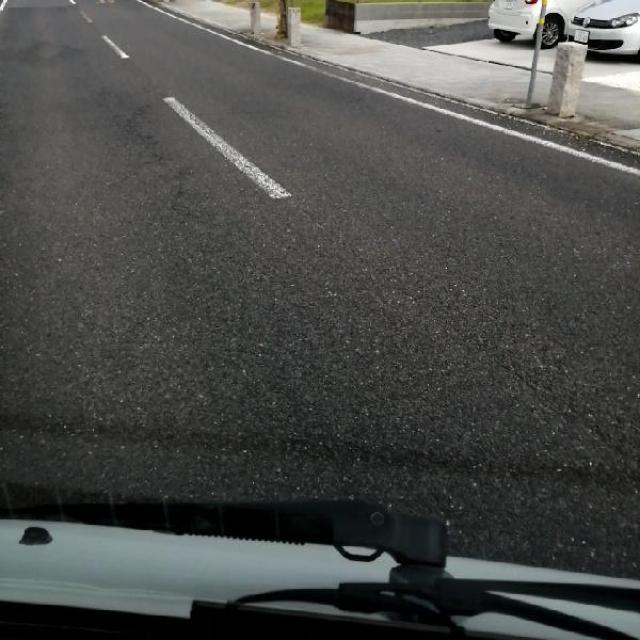Crack: (96, 59, 229, 260)
